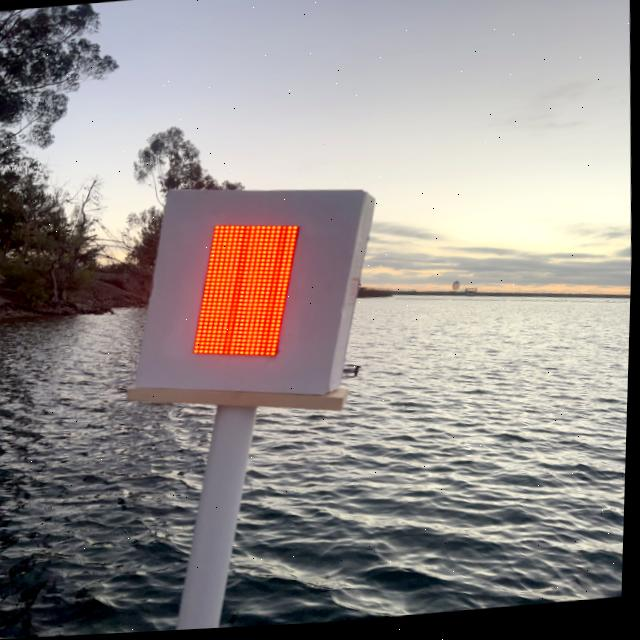led: (168, 192, 337, 395)
